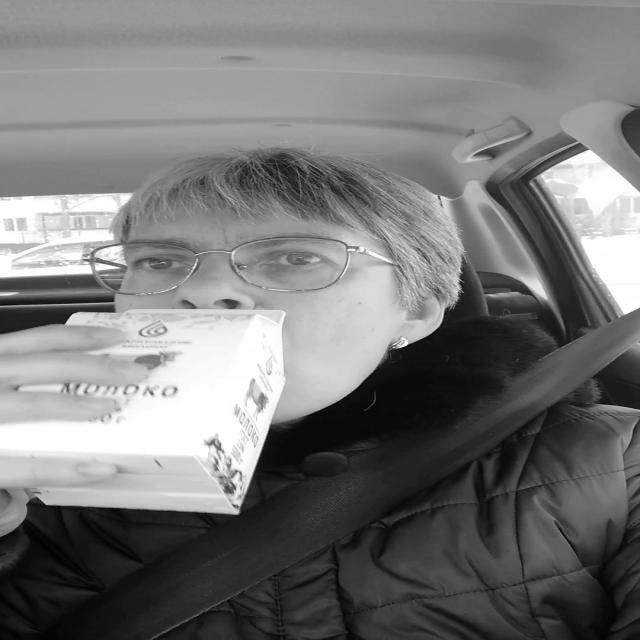Drinking: (0, 297, 294, 521)
Seatbelt: (50, 299, 640, 640)
